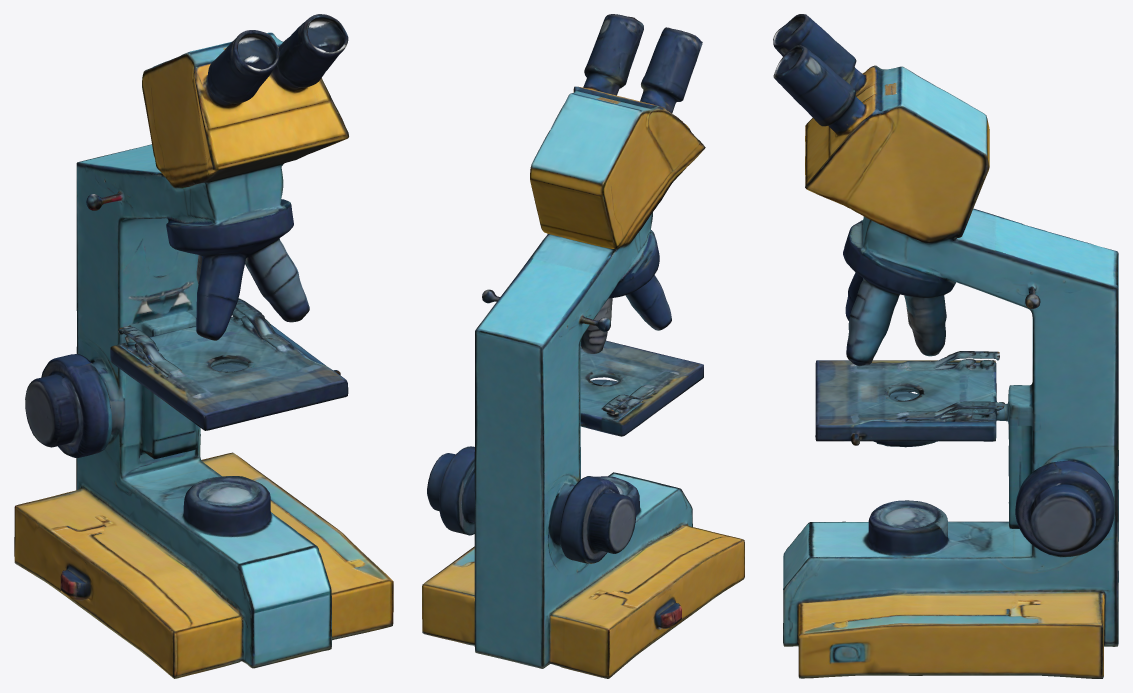
Rendered from micro.glb.
3 views of the same model, side by side, from view 1: azimuth 30°, elevation 25°; view 2: azimuth 150°, elevation 25°; view 3: azimuth 270°, elevation 25° (orthographic). The views are drawn at different scales.
Bounding box in the file's own units: 0.7835 × 2 × 1.05.
1 material, 1 textured.
